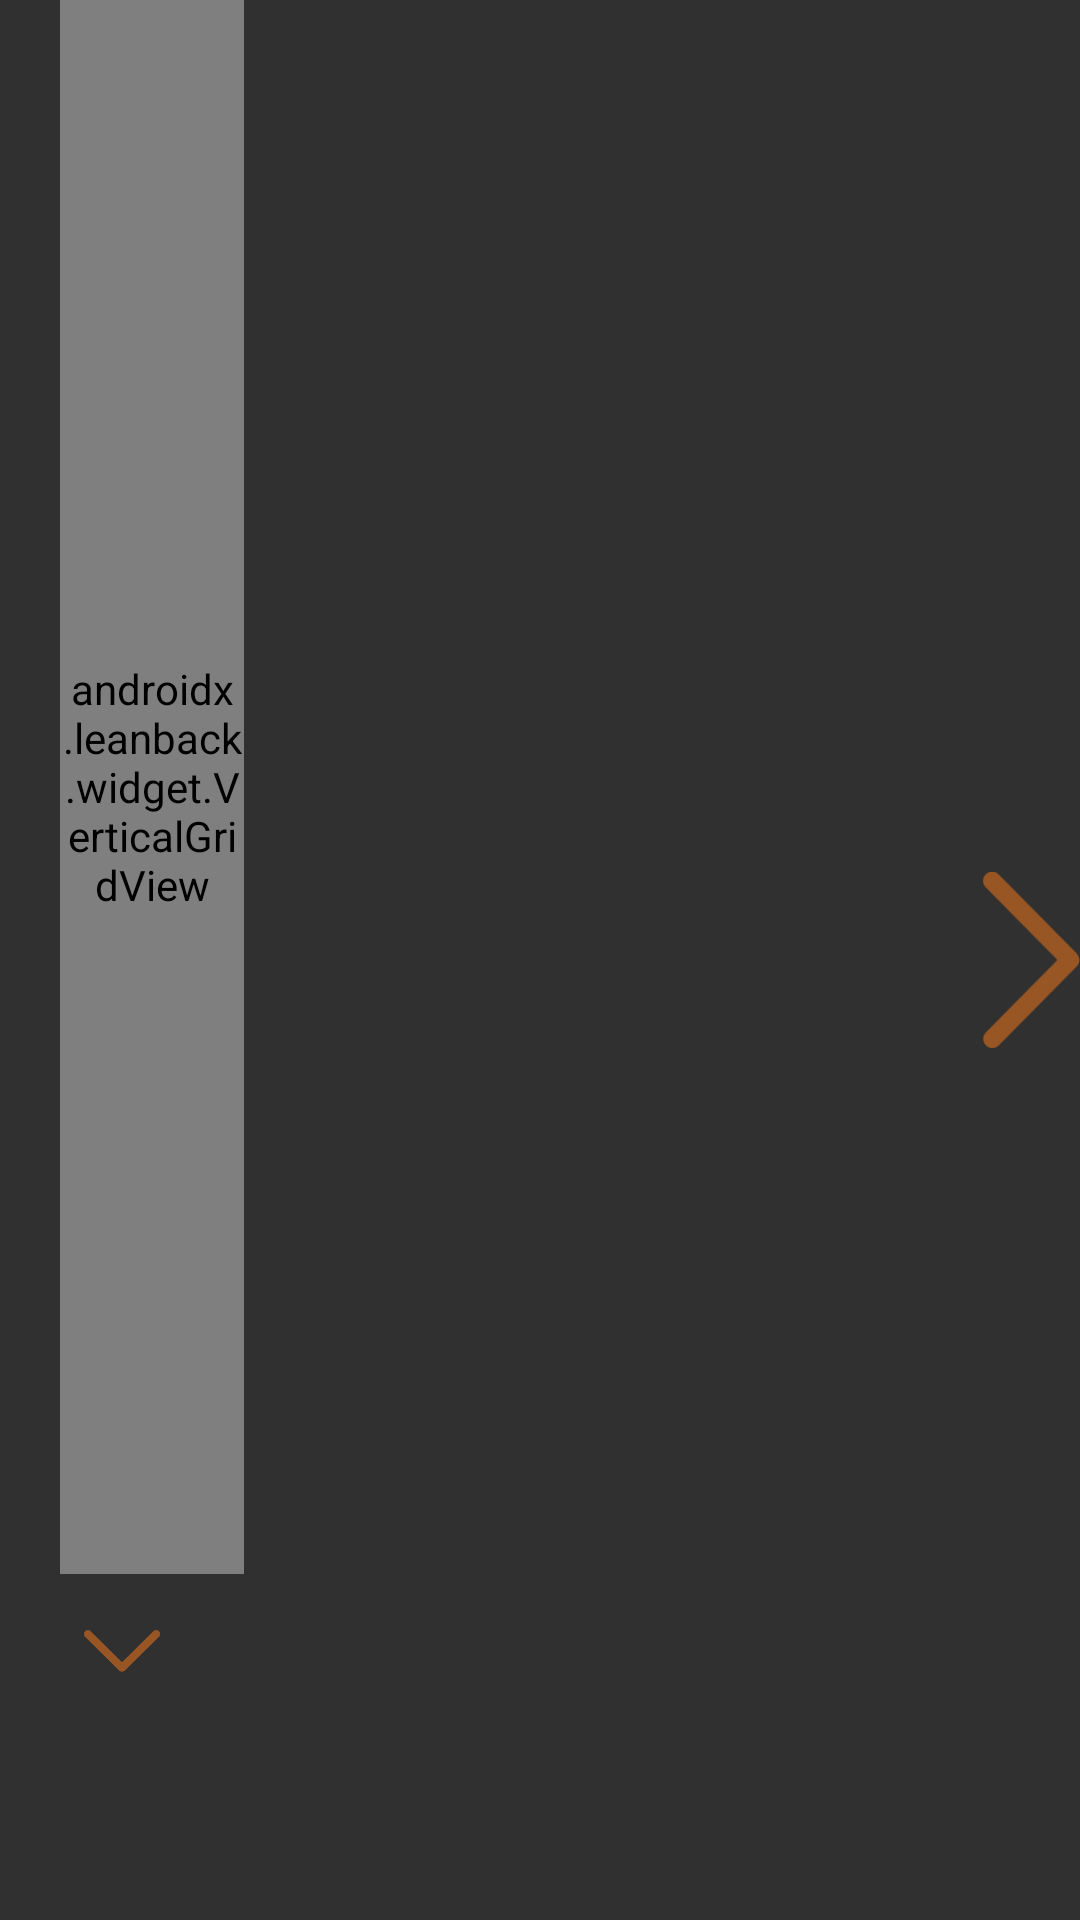

Named icons in this screenshot (1080px x 1920px) and their centers, point (x, y):
next horizontal: point (1031, 960)
next vertical: point (122, 1651)
